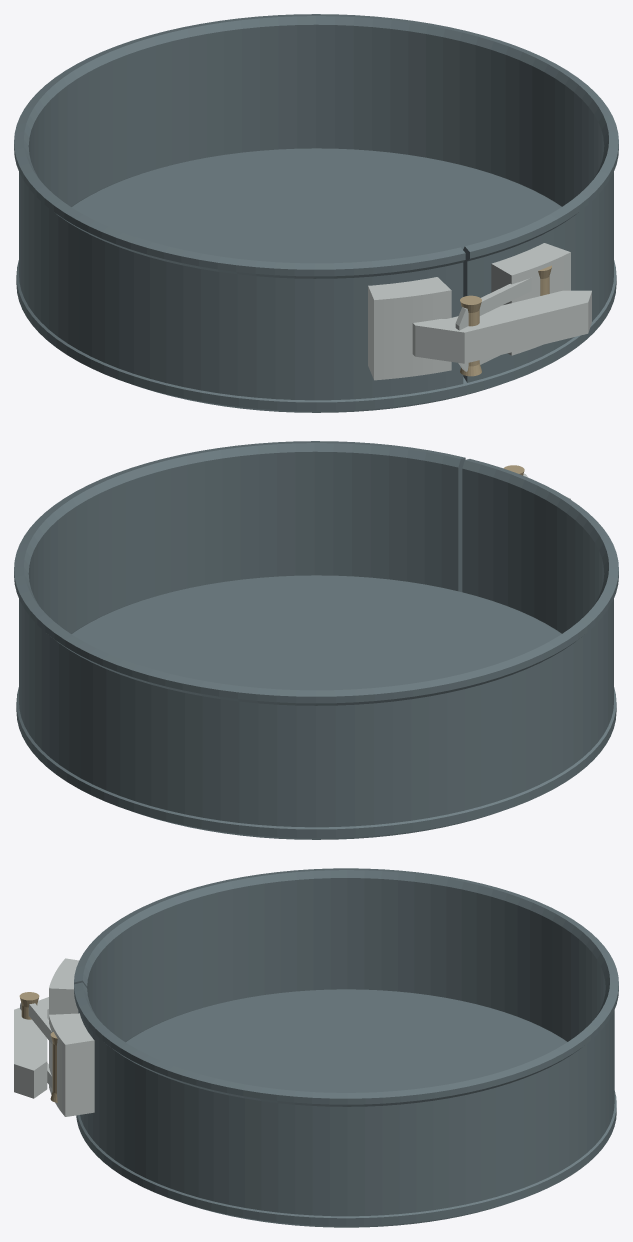
The picture shows the model from 3 angles, top to bottom: view 1: azimuth 30°, elevation 25°; view 2: azimuth 150°, elevation 25°; view 3: azimuth 270°, elevation 25°; orthographic projection. The views are drawn at different scales.
Visible parts, largest first — view 1: WholeRoundSplitWallWithReturnedUpperLip, WholeLowCircularBasePlateAndEdge, WholeFixedOffsetToggleLever, WholeCurvedLatchAnchorLeft, WholeCurvedLatchAnchorRight, WholeOpenObliqueConnectingBail, WholeLatchPivotPinLeverLinkHinge; view 2: WholeRoundSplitWallWithReturnedUpperLip, WholeLowCircularBasePlateAndEdge; view 3: WholeRoundSplitWallWithReturnedUpperLip, WholeLowCircularBasePlateAndEdge, WholeCurvedLatchAnchorRight, WholeFixedOffsetToggleLever, WholeCurvedLatchAnchorLeft, WholeOpenObliqueConnectingBail.
Boxes of the visible parts, x1,y1,x2,y2 form: WholeRoundSplitWallWithReturnedUpperLip: [14, 14, 618, 400]; WholeLowCircularBasePlateAndEdge: [16, 148, 616, 412]; WholeFixedOffsetToggleLever: [412, 290, 591, 363]; WholeCurvedLatchAnchorLeft: [368, 277, 451, 380]; WholeCurvedLatchAnchorRight: [491, 243, 570, 355]; WholeOpenObliqueConnectingBail: [455, 278, 531, 371]; WholeLatchPivotPinLeverLinkHinge: [460, 295, 481, 376]; WholeRoundSplitWallWithReturnedUpperLip: [14, 441, 618, 827]; WholeLowCircularBasePlateAndEdge: [16, 575, 616, 839]; WholeRoundSplitWallWithReturnedUpperLip: [74, 868, 618, 1216]; WholeLowCircularBasePlateAndEdge: [76, 989, 616, 1227]; WholeCurvedLatchAnchorRight: [49, 1013, 94, 1116]; WholeFixedOffsetToggleLever: [14, 997, 48, 1098]; WholeCurvedLatchAnchorLeft: [49, 958, 79, 1014]; WholeOpenObliqueConnectingBail: [20, 1002, 52, 1088].
Size of the model in its own units: 0.246 by 0.068 by 0.273.
